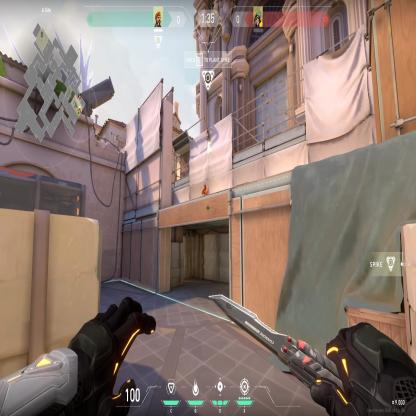enemy: (201, 183, 208, 196)
